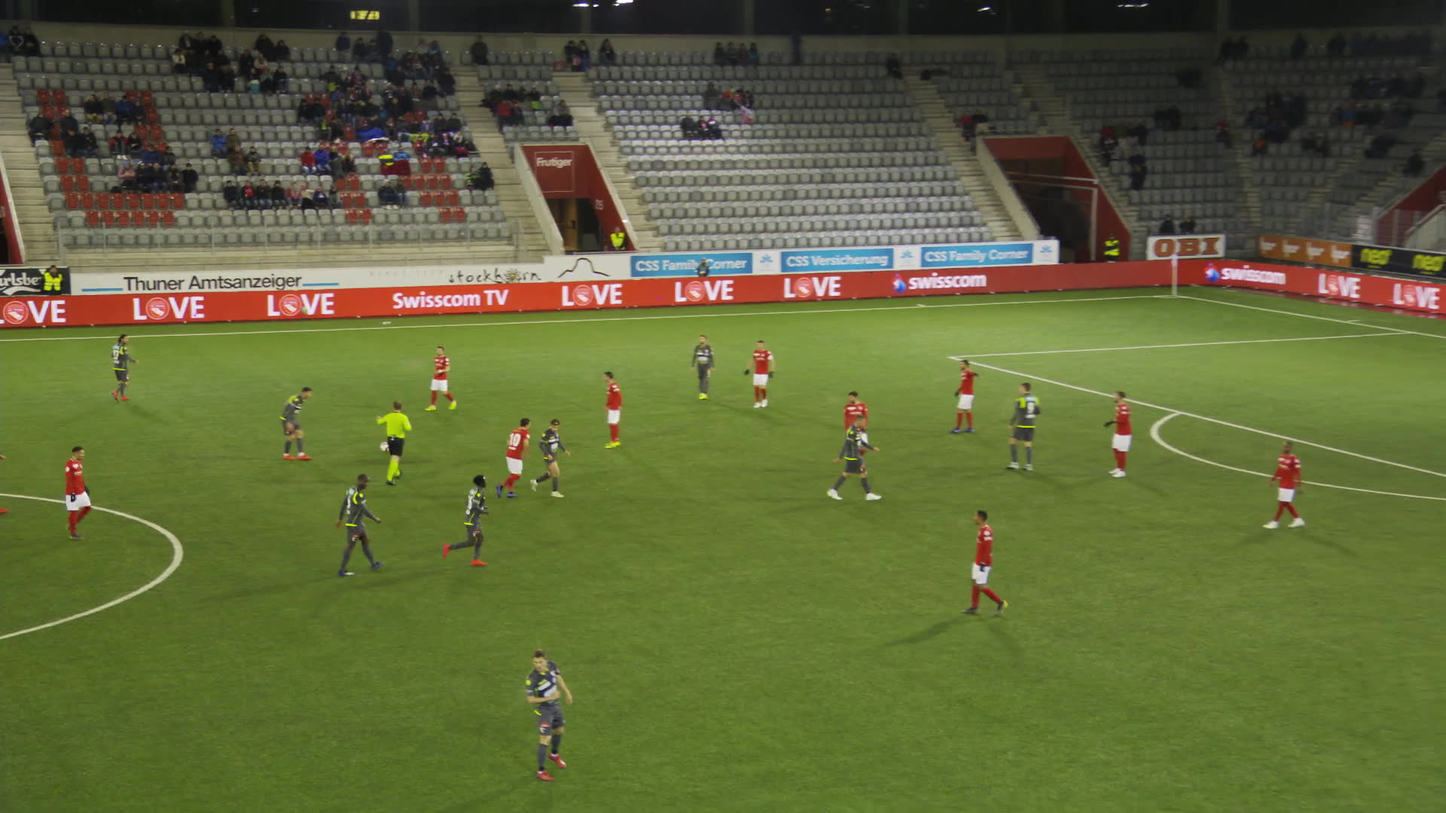ball: (382, 442, 391, 452)
player: (528, 649, 572, 781), (961, 510, 1007, 617), (337, 473, 382, 575), (445, 473, 490, 565), (831, 413, 876, 500), (1267, 440, 1304, 528), (1008, 382, 1042, 470), (63, 446, 95, 539), (499, 416, 532, 497), (533, 418, 566, 496), (1105, 391, 1133, 476), (282, 388, 315, 459), (746, 341, 776, 409), (953, 360, 981, 432), (427, 346, 456, 410), (112, 333, 138, 400), (844, 391, 870, 457), (692, 333, 717, 400), (606, 371, 623, 448)
referee: (377, 401, 412, 485)
